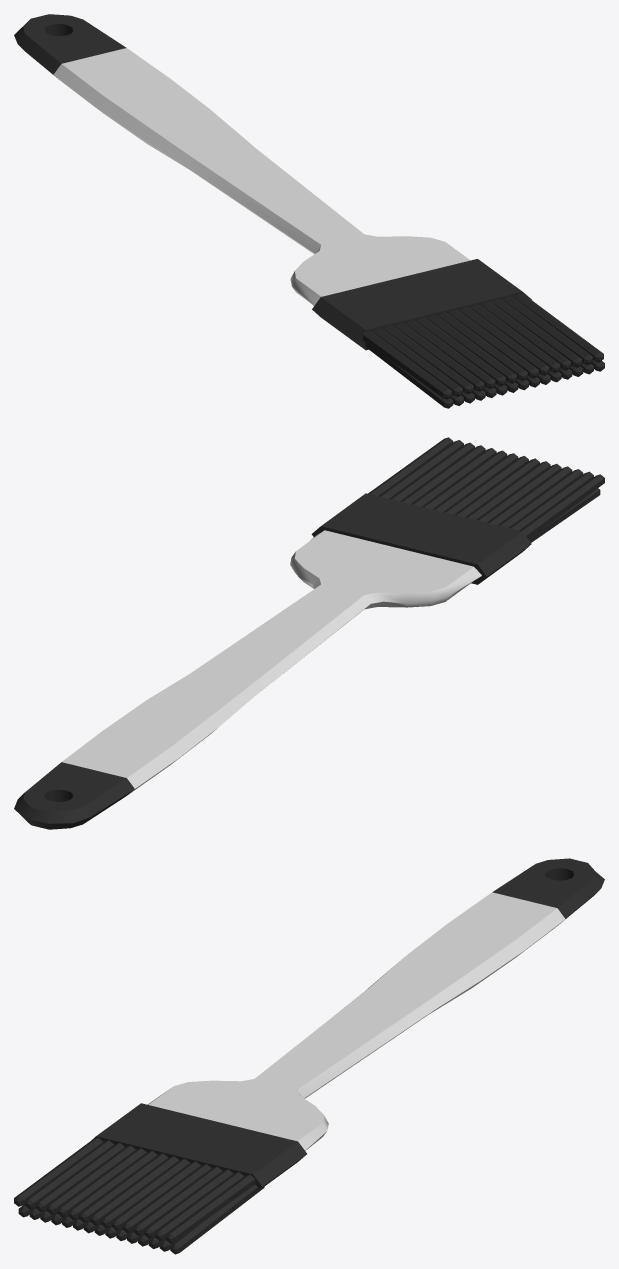
The model's file is PastryBrush_01.fbx.
3 views of the same model, one above another, from view 1: azimuth 30°, elevation 25°; view 2: azimuth 150°, elevation 25°; view 3: azimuth 330°, elevation 25° (orthographic).
Parts seen in each view (by area): view 1: PastryBrush_01; view 2: PastryBrush_01; view 3: PastryBrush_01.
Part boxes in pixels (left/top/right/bottom): PastryBrush_01: left=14, top=14, right=604, bottom=408; PastryBrush_01: left=14, top=437, right=604, bottom=829; PastryBrush_01: left=14, top=858, right=604, bottom=1254.
Size of the model in its own units: 0.0529 by 0.00667 by 0.2559.
